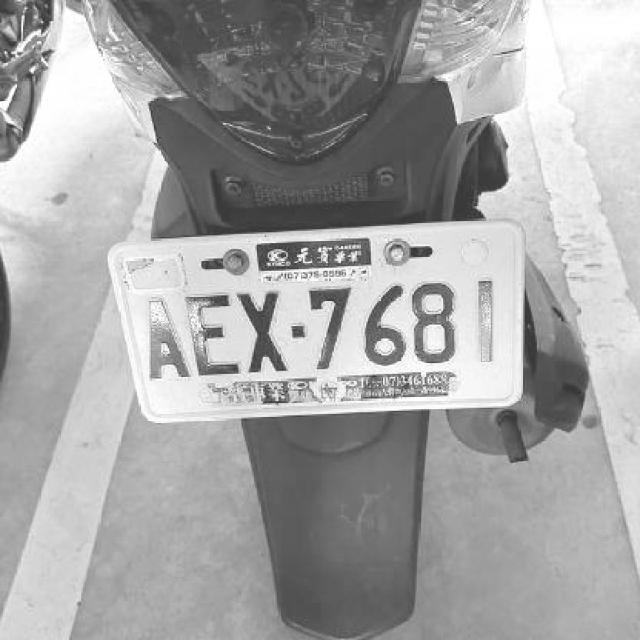-: (291, 324, 306, 338)
1: (474, 278, 497, 362)
6: (360, 280, 408, 365)
7: (310, 283, 352, 374)
8: (408, 279, 455, 363)
A: (143, 296, 192, 380)
E: (181, 291, 238, 376)
X: (233, 288, 293, 377)
